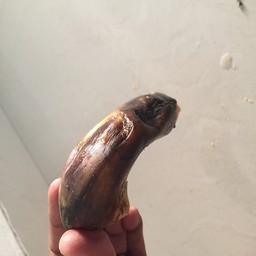Bad_banana: (59, 89, 180, 243)
